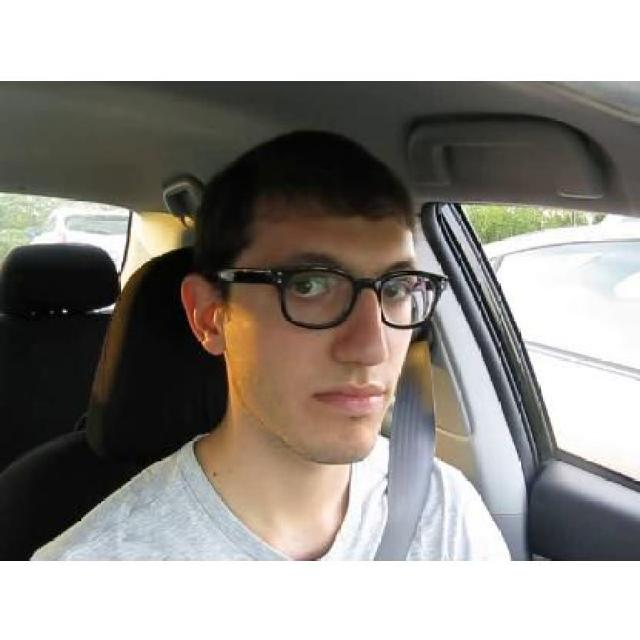attentif: (181, 127, 447, 464)
